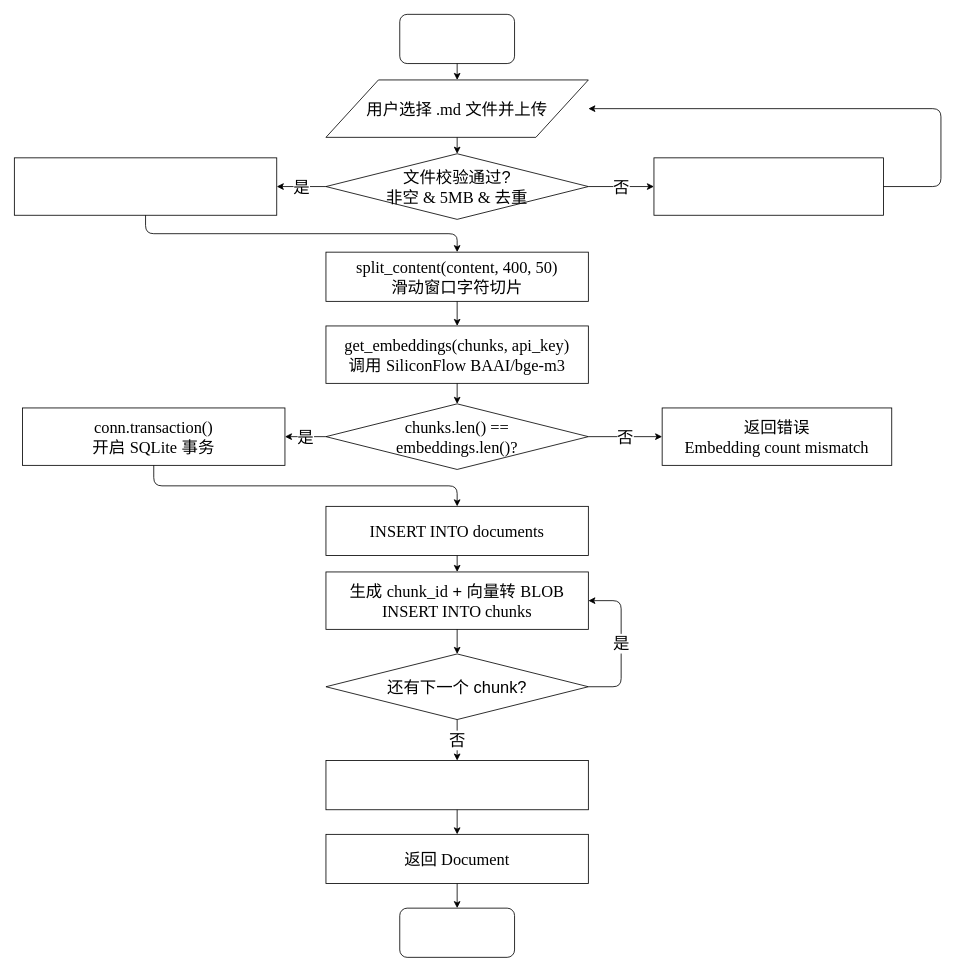
Image size: 962x972. Some labels were removed from this diagram. The centre of each missing label's shape, as x and y in pixels:
"add_document(kb_id, filename, content, api_key)" belongs at (x=145, y=186).
"toast.error + continue" belongs at (x=768, y=186).
"tx.commit()" belongs at (x=456, y=785).
"开始" belongs at (x=457, y=39).
"结束" belongs at (x=457, y=932).
